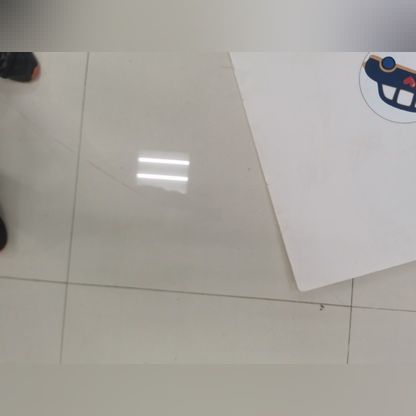car: (355, 46, 416, 125)
